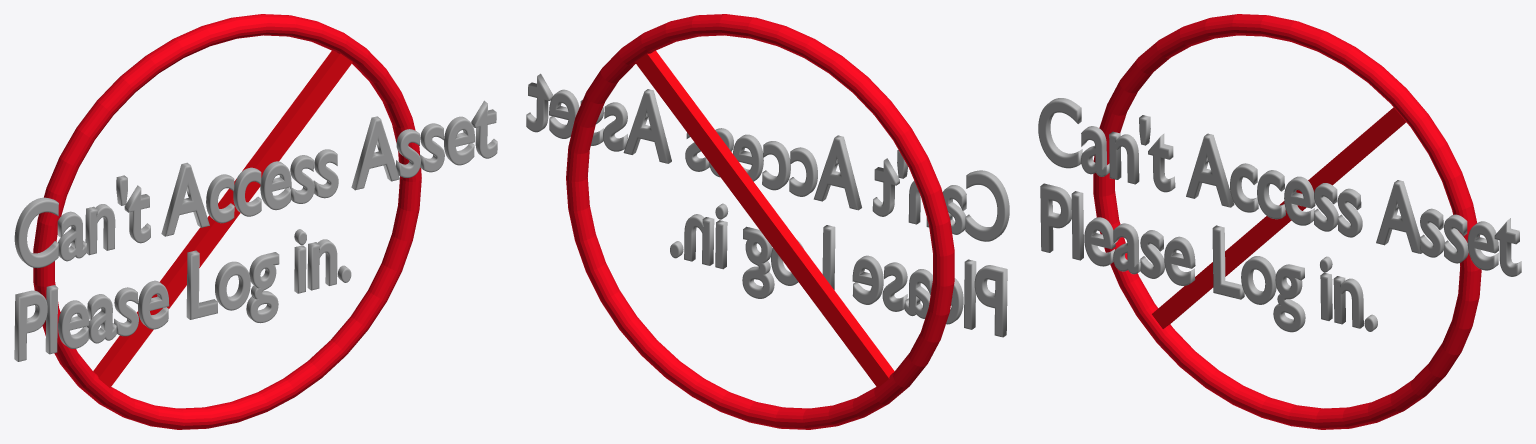
Rendered from can_not_access_text.glb.
3 views of the same model, side by side, from view 1: azimuth 30°, elevation 25°; view 2: azimuth 150°, elevation 25°; view 3: azimuth 330°, elevation 25° (orthographic).
Visible parts, largest first — view 1: 텍스트, Torus.001, 큐브; view 2: Torus.001, 텍스트, 큐브; view 3: 텍스트, Torus.001, 큐브.
Boxes of the visible parts, x1=… form: 텍스트: x1=14, y1=100, x2=497, y2=361; Torus.001: x1=33, y1=14, x2=421, y2=429; 큐브: x1=93, y1=51, x2=352, y2=387; Torus.001: x1=566, y1=14, x2=954, y2=429; 텍스트: x1=526, y1=73, x2=1009, y2=337; 큐브: x1=635, y1=50, x2=894, y2=387; 텍스트: x1=1038, y1=98, x2=1521, y2=332; Torus.001: x1=1093, y1=14, x2=1481, y2=429; 큐브: x1=1152, y1=107, x2=1406, y2=328.
Size of the model in its own units: 2.32 by 1.87 by 0.2266.
